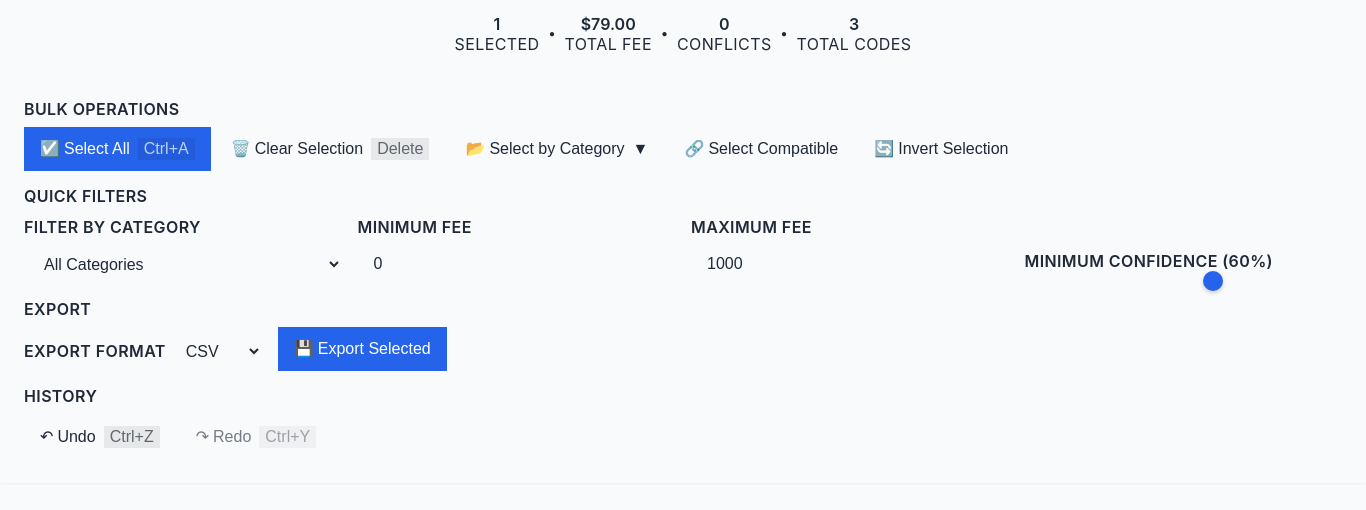
Scenario: EnhancedToolbar › Quick Filters › shows filter reset button when filters are active
The image size is (1366, 510).
Select "Category 1" in the dropdown labelled "Filter by Category" at (183,264), box [24,244,342,284]
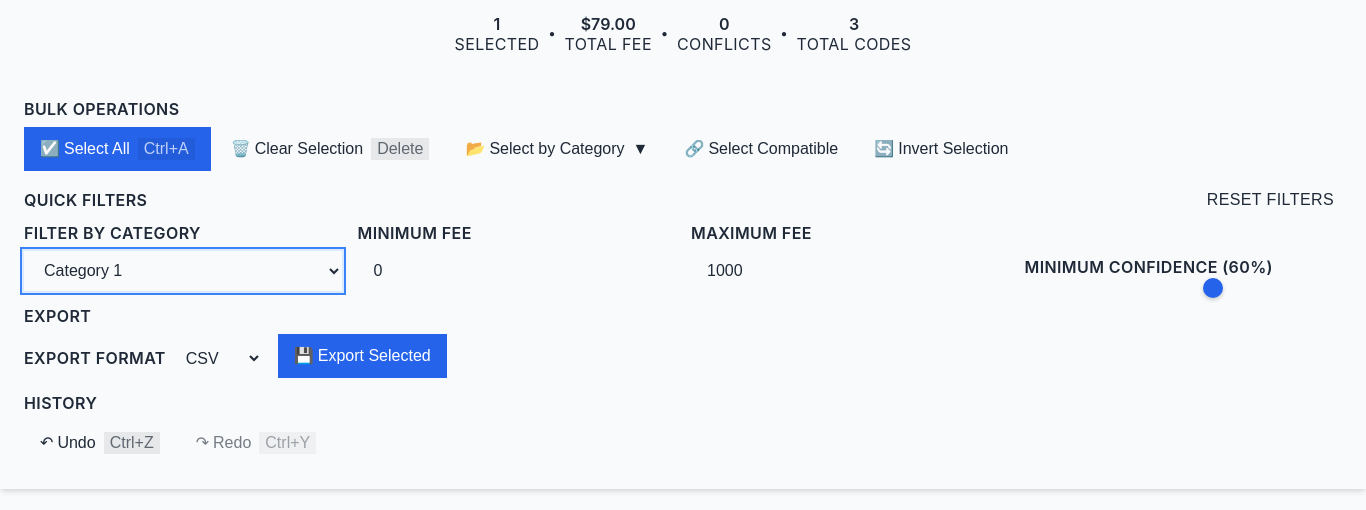
Expected: the button "Reset Filters" is shown, [1199,187,1342,213]
